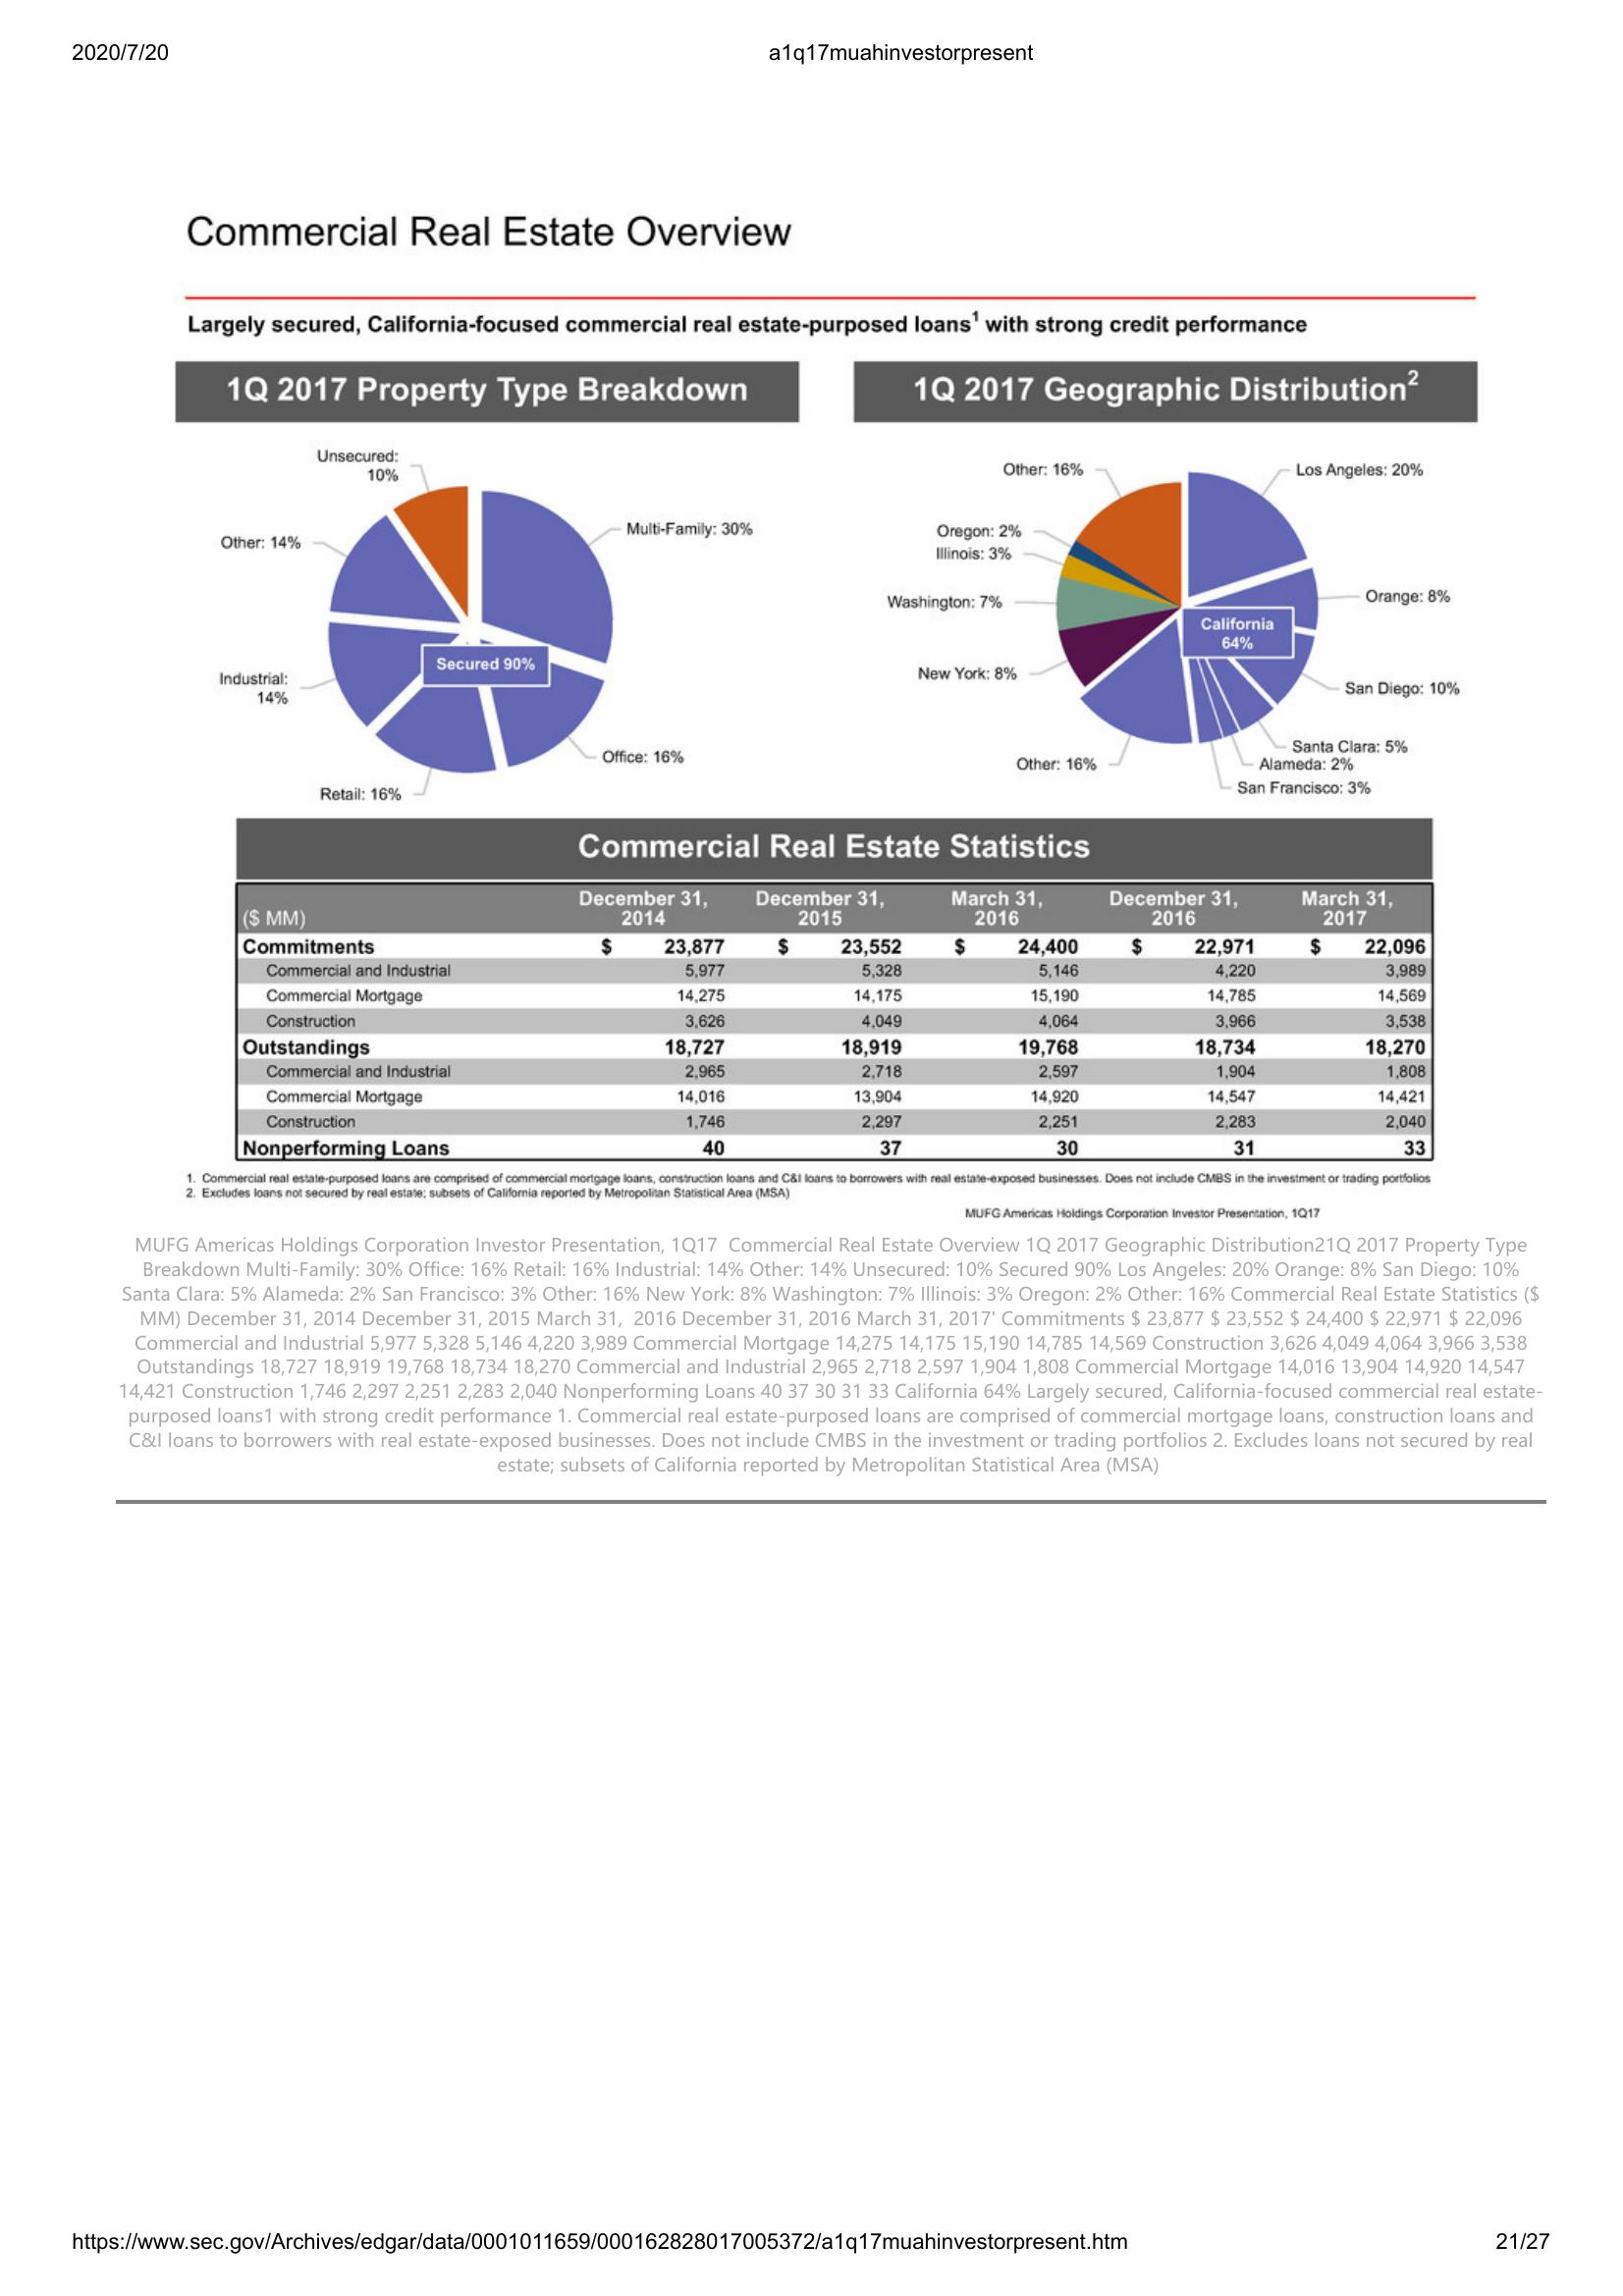table: (230, 816, 1439, 1164)
